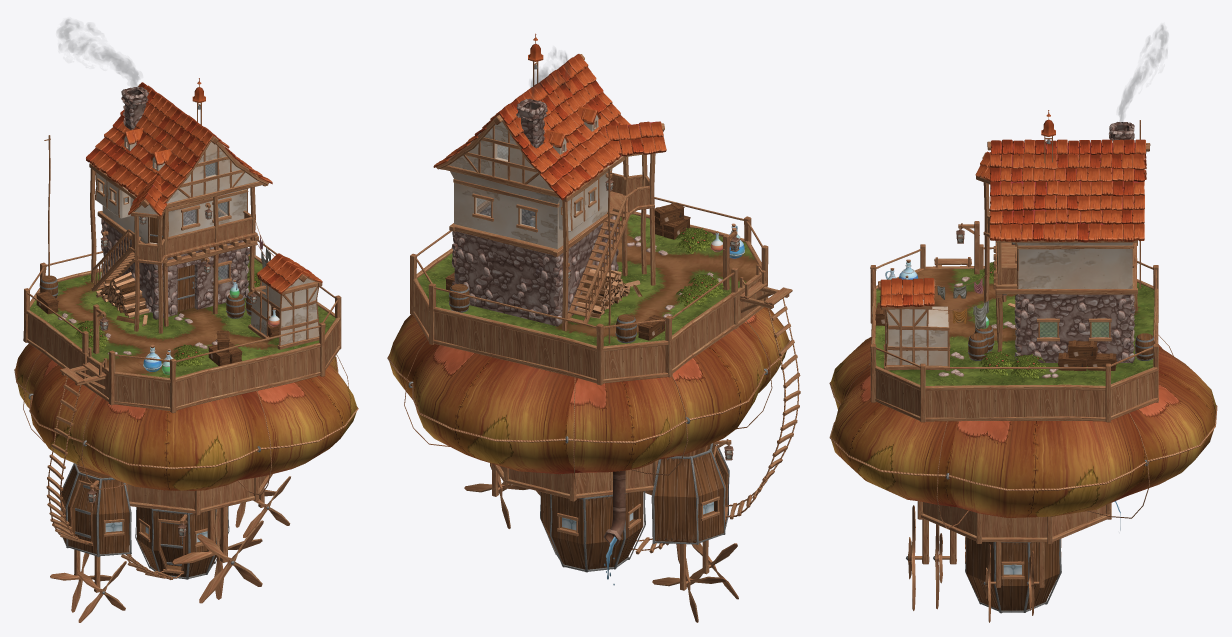
File: andrews_sky_island.glb
The picture shows the model from 3 angles, left to right: view 1: azimuth 30°, elevation 25°; view 2: azimuth 150°, elevation 25°; view 3: azimuth 270°, elevation 25°; orthographic projection. The views are drawn at different scales.
Visible parts, largest first — view 1: Object_2, Object_18, Object_15, Object_5, Object_12, Object_20, Object_4, Object_14, Object_30, Object_11, Object_22, Object_9 (+9 smaller); view 2: Object_2, Object_18, Object_15, Object_4, Object_20, Object_12, Object_14, Object_30, Object_5, Object_11, Object_9, Object_24 (+5 smaller); view 3: Object_2, Object_20, Object_18, Object_12, Object_5, Object_30, Object_15, Object_14, Object_4, Object_22, Object_9, Object_11 (+7 smaller).
Boxes of the visible parts, x1,y1,x2,y2 form: Object_2: (15,344,357,490); Object_18: (23,135,341,413); Object_15: (89,83,268,523); Object_5: (46,384,290,622); Object_12: (30,256,335,377); Object_20: (86,78,322,293); Object_4: (60,463,229,579); Object_14: (89,136,258,243); Object_30: (101,210,249,319); Object_11: (14,202,358,578); Object_22: (251,278,319,345); Object_9: (28,275,279,452); Object_2: (388,307,789,474); Object_18: (410,168,792,385); Object_15: (436,41,737,448); Object_4: (540,443,729,572); Object_20: (433,33,666,199); Object_12: (417,214,760,345); Object_14: (448,115,622,249); Object_30: (451,204,618,326); Object_5: (464,306,800,622); Object_11: (387,173,799,550); Object_9: (408,202,767,443); Object_24: (675,227,724,307); Object_2: (830,337,1216,517); Object_20: (880,110,1146,307); Object_18: (870,120,1158,422); Object_12: (875,269,1154,385); Object_5: (908,501,1111,622); Object_30: (1014,294,1135,363); Object_15: (958,117,1150,353); Object_14: (1016,242,1132,288); Object_4: (965,537,1061,613); Object_22: (886,306,948,365); Object_9: (875,295,1154,479); Object_11: (829,223,1217,528).
Bounding box in the file's own units: 13.25 × 22.46 × 13.5.
29 materials, 26 textured.
